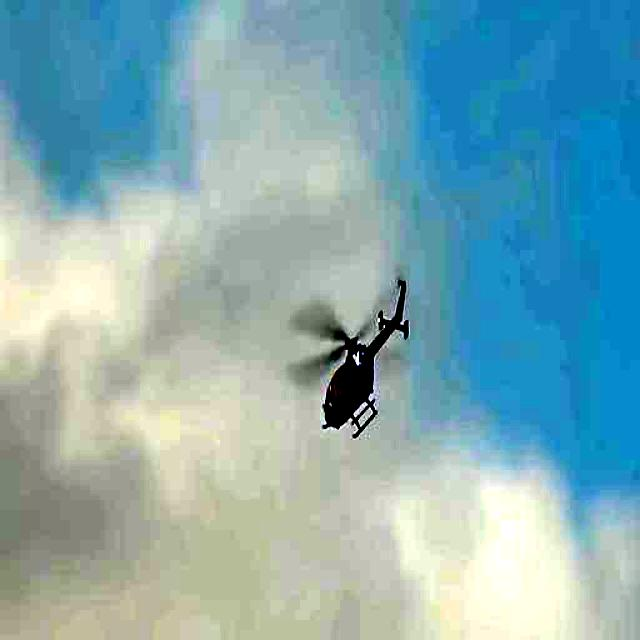drone: (316, 282, 416, 438)
